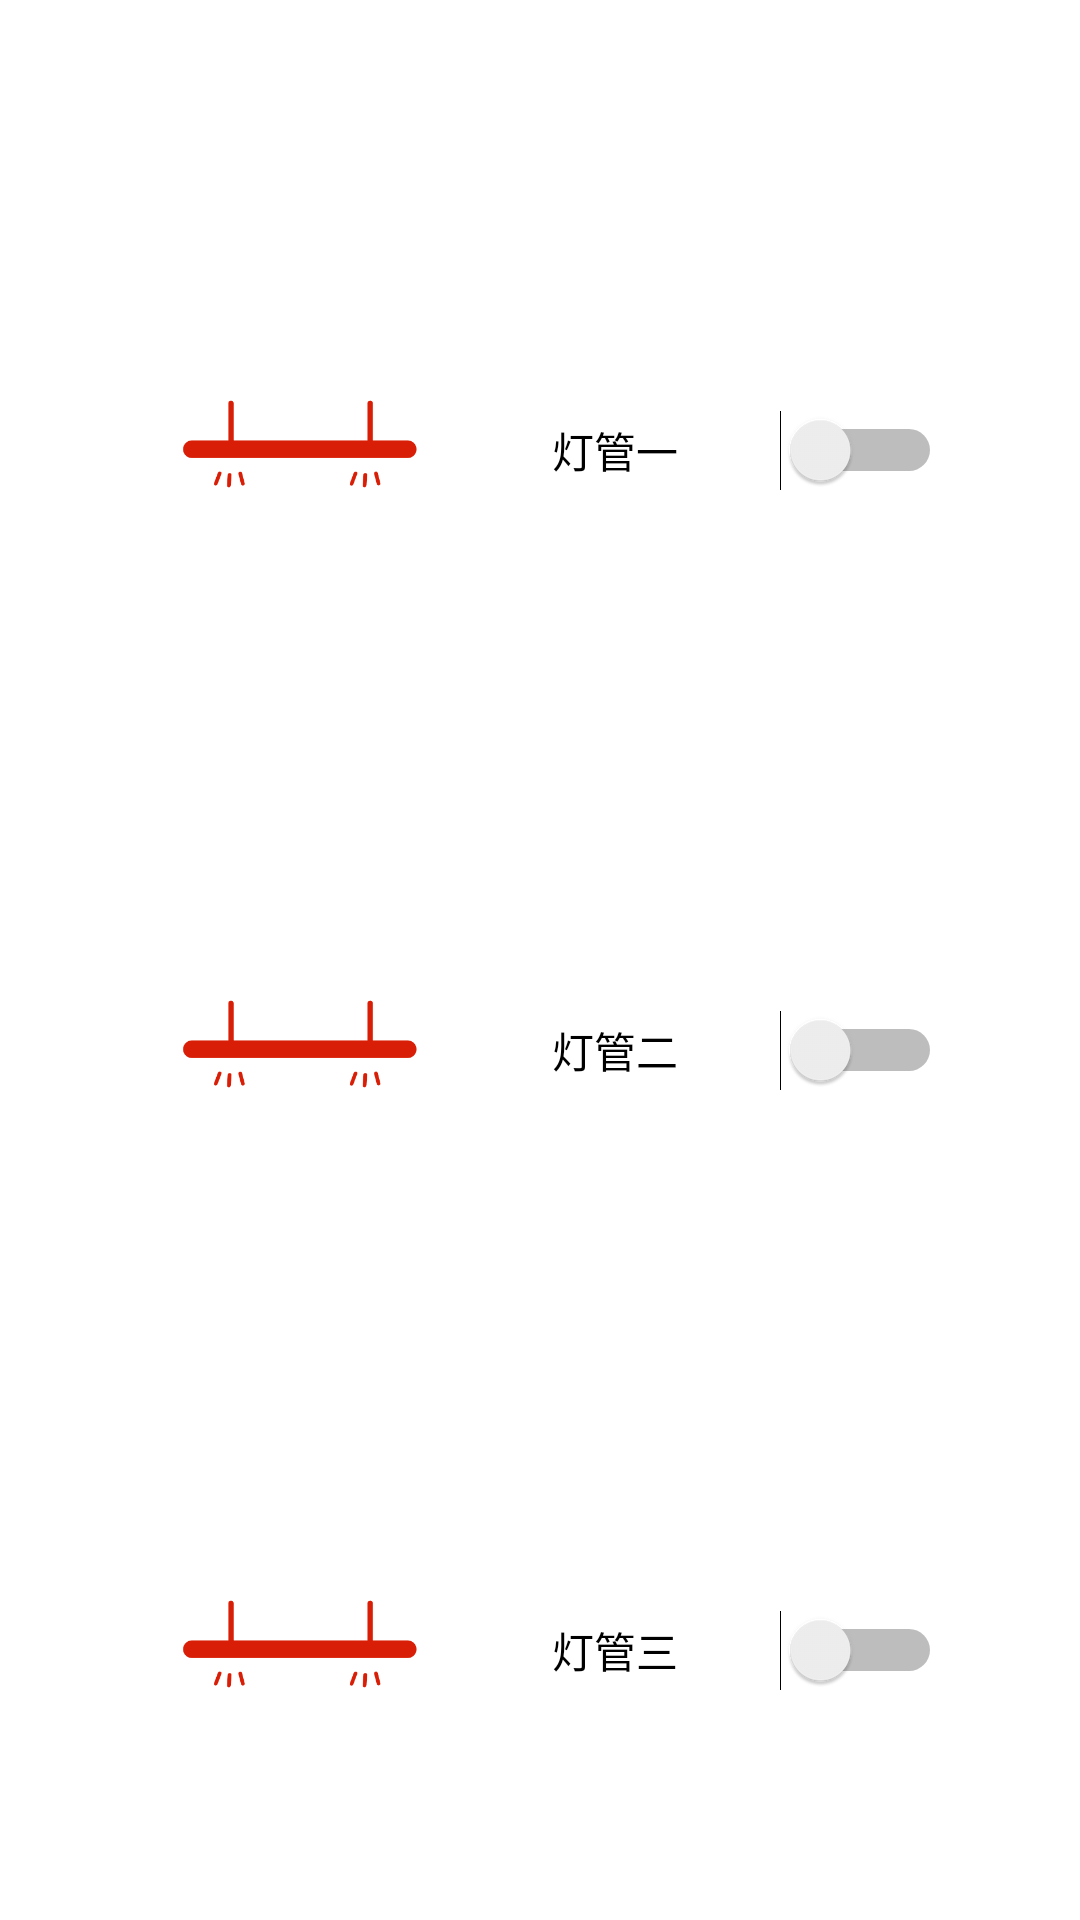

Where icons sit on this 1080×1920 app screen, as (x1, y1, x2, y2):
lights: (183, 400, 417, 488), (183, 1000, 417, 1088), (183, 1600, 417, 1688)
